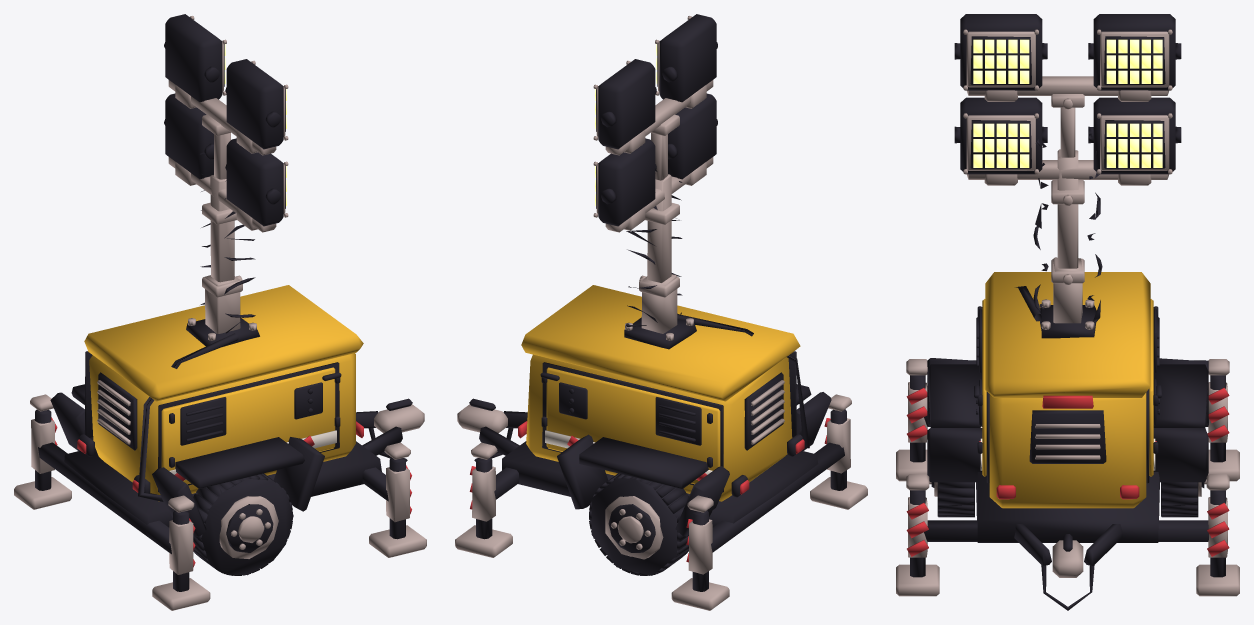
Rendered from prop.light-tower-trailer.lod2.glb.
The picture shows the model from 3 angles, left to right: view 1: azimuth 30°, elevation 25°; view 2: azimuth 150°, elevation 25°; view 3: azimuth 270°, elevation 25°; orthographic projection. The views are drawn at different scales.
Parts seen in each view (by area): view 1: object 2, body; view 2: object 2, body; view 3: object 2, body.
Boxes of the visible parts, x1,y1,x2,y2 form: object 2: (14, 14, 426, 610); body: (84, 285, 363, 501); object 2: (455, 14, 867, 610); body: (521, 285, 800, 501); object 2: (896, 14, 1239, 610); body: (985, 272, 1150, 508).
Bounding box in the file's own units: 3.22 × 4.41 × 2.68.
